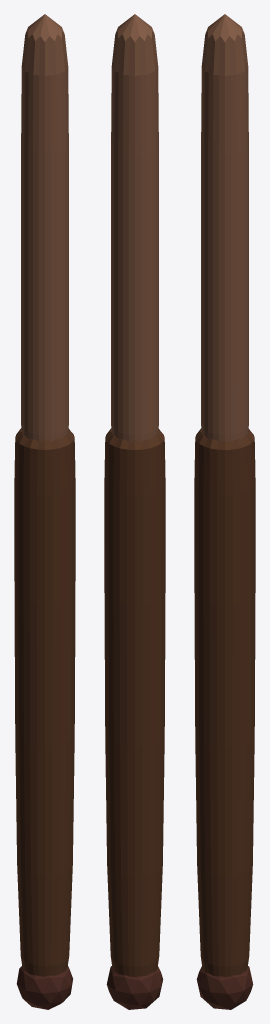
The model's file is Wand 10.glb.
3 renders of one model, left to right at view 1: azimuth 30°, elevation 25°; view 2: azimuth 210°, elevation 25°; view 3: azimuth 330°, elevation 25°, orthographic.
Visible parts, largest first — view 1: GeneratedWand; view 2: GeneratedWand; view 3: GeneratedWand.
Boxes of the visible parts, x1=… form: GeneratedWand: x1=14, y1=14, x2=75, y2=1009; GeneratedWand: x1=104, y1=14, x2=165, y2=1009; GeneratedWand: x1=194, y1=14, x2=255, y2=1009.
Bounding box in the file's own units: 0.0273 × 0.4892 × 0.0273.
